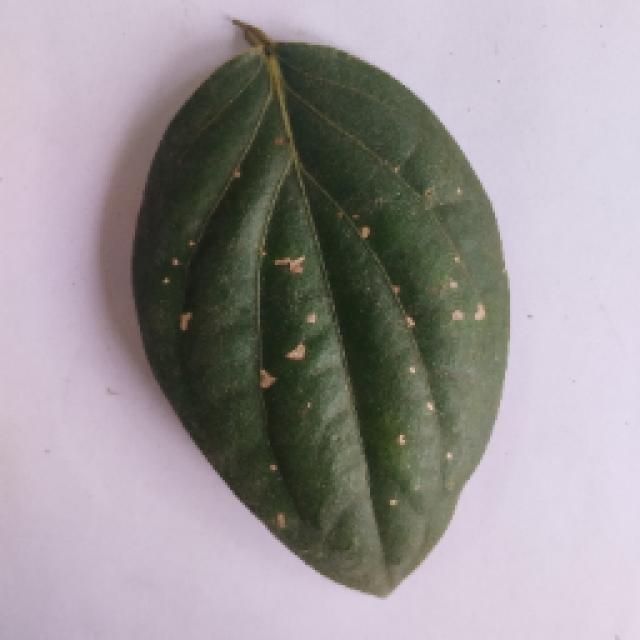pollu-disease: (122, 25, 518, 593)
